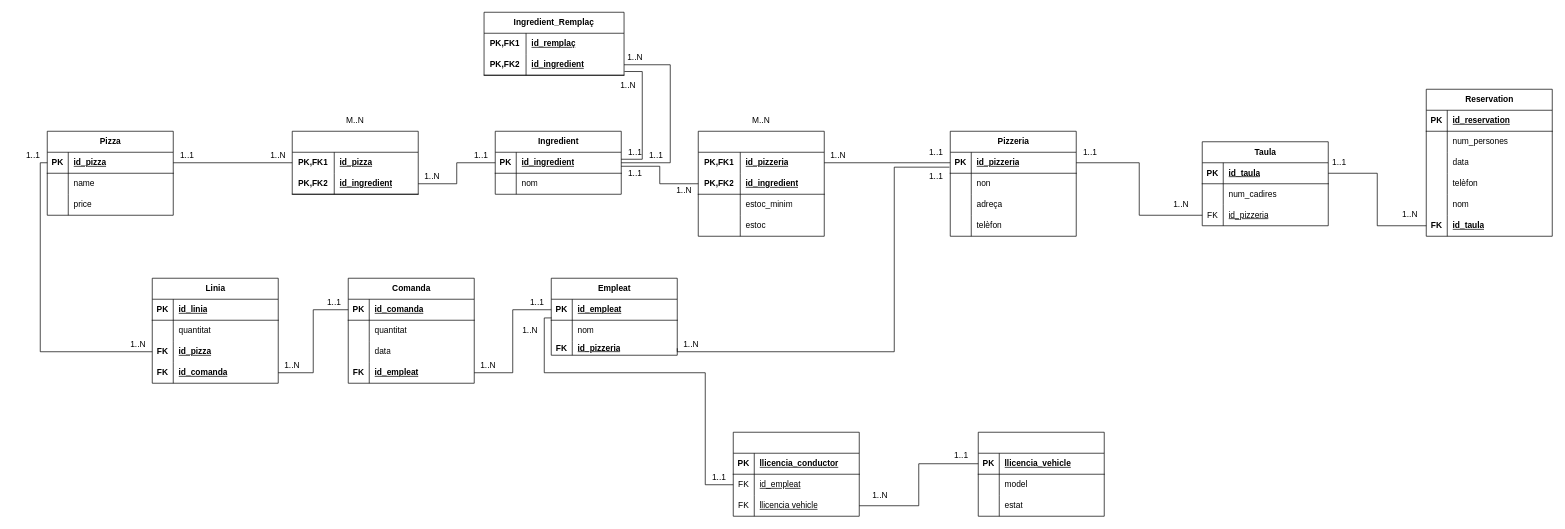
Some shapes in this 1565 by 529 pixel diagram are drawn without their labels. The box of each missing label's shape, as (x1, y1, x2, y2) in pixels:
Moto: (978, 432, 1104, 516)
pizza_ingredient: (292, 131, 418, 194)
Pizzeria_ingredient: (698, 131, 824, 236)
Repartidor: (733, 432, 859, 516)
